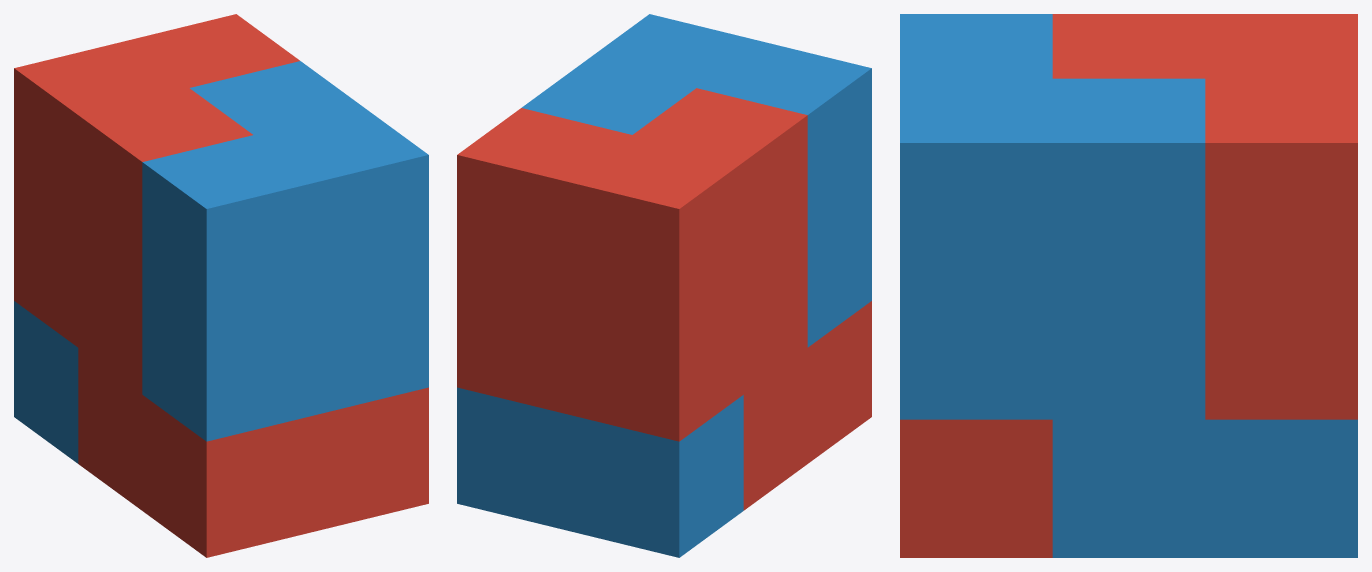
Rendered from tiling.obj.
3 views of the same model, side by side, from view 1: azimuth 30°, elevation 25°; view 2: azimuth 150°, elevation 25°; view 3: azimuth 270°, elevation 25° (orthographic). The views are drawn at different scales.
Visible parts, largest first — view 1: copy_2, copy_1; view 2: copy_1, copy_2; view 3: copy_2, copy_1.
Boxes of the visible parts, bbox=[...] form: copy_2: bbox=[14, 61, 428, 463]; copy_1: bbox=[14, 14, 428, 557]; copy_1: bbox=[457, 88, 871, 510]; copy_2: bbox=[457, 14, 871, 557]; copy_2: bbox=[900, 14, 1357, 557]; copy_1: bbox=[900, 14, 1357, 557].
Bounding box in the file's own units: 2 × 3 × 3.
